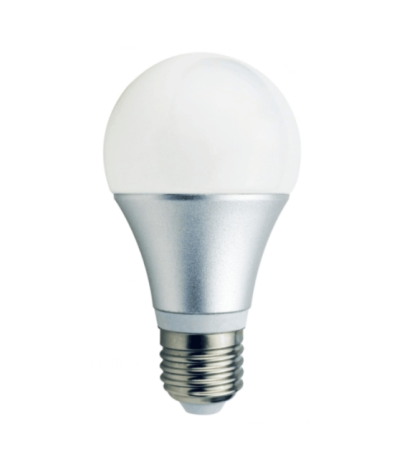Light_bulb: (92, 41, 306, 432)
